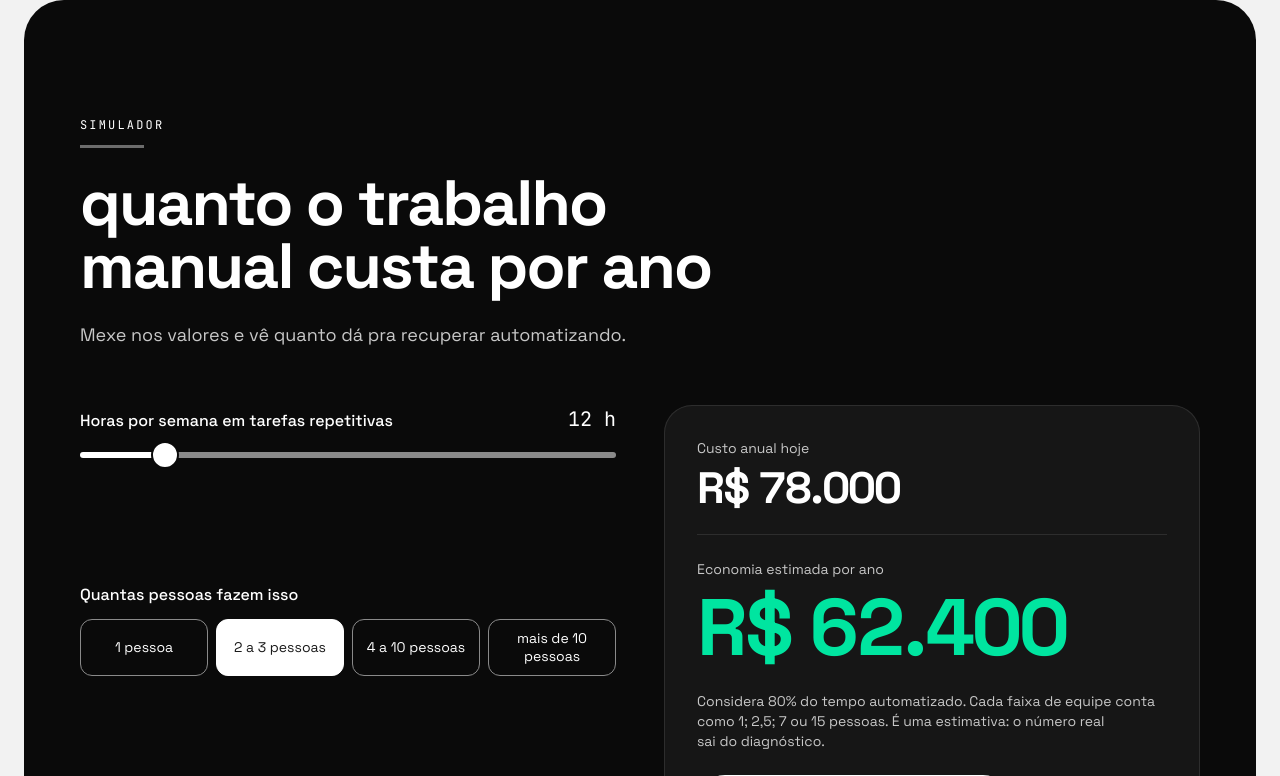
it: RoiSimulator controls › shows the current value next to the label, hidden from assistive tech because the slider already says it
Set the slider labelled "Horas por semana em tarefas repetitivas" to "33" at (299, 455), box [80,433,616,477]
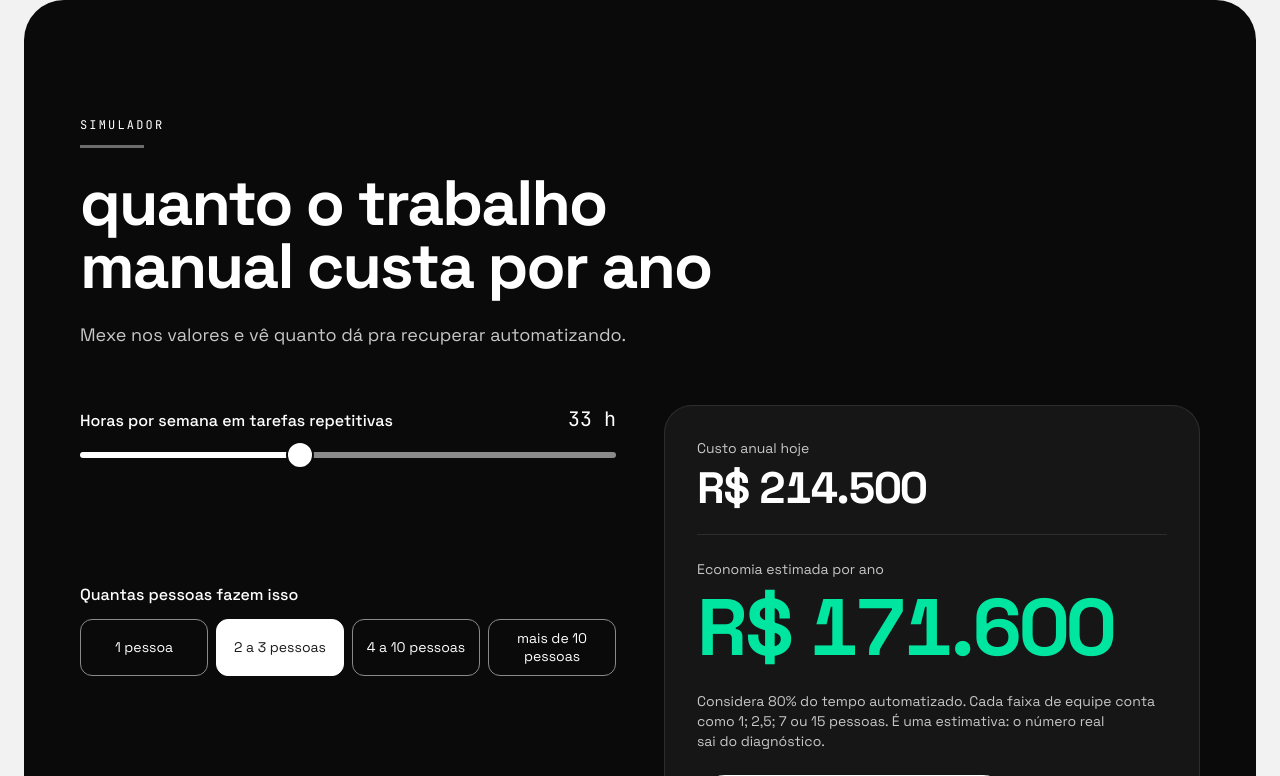
Expected: the text "33 h" is shown, [568,405,616,433]
Expected: the text "12 h" is gone
